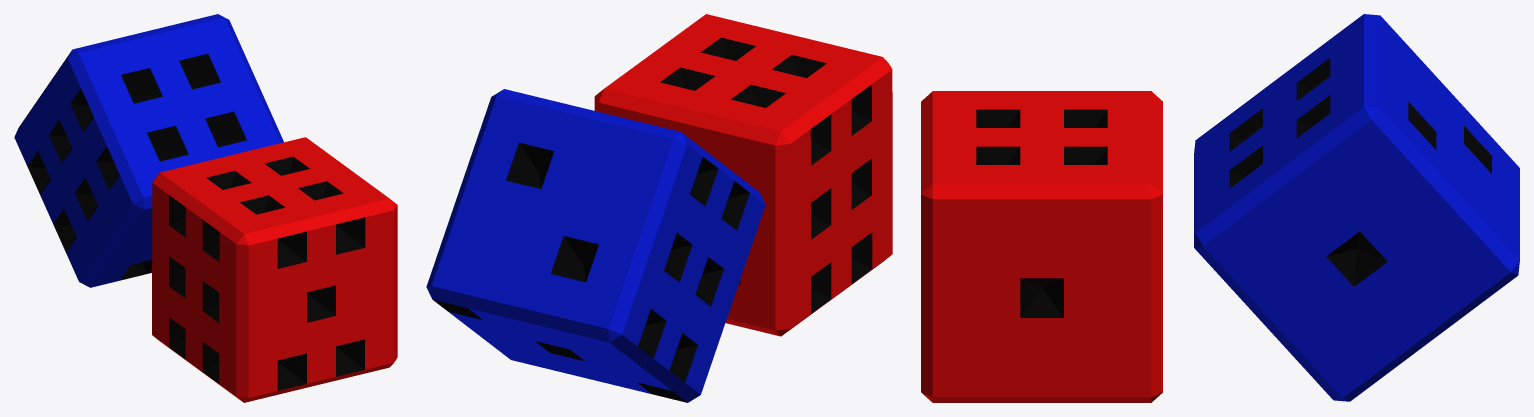
The model's file is dado.glb.
The picture shows the model from 3 angles, left to right: view 1: azimuth 30°, elevation 25°; view 2: azimuth 150°, elevation 25°; view 3: azimuth 270°, elevation 25°; orthographic projection. The views are drawn at different scales.
Parts seen in each view (by area): view 1: Cube, Cube.001; view 2: Cube.001, Cube; view 3: Cube.001, Cube.
Boxes of the visible parts, x1=… form: Cube: x1=152, y1=137, x2=397, y2=402; Cube.001: x1=14, y1=14, x2=283, y2=287; Cube.001: x1=426, y1=89, x2=765, y2=402; Cube: x1=594, y1=14, x2=892, y2=336; Cube.001: x1=1194, y1=14, x2=1519, y2=401; Cube: x1=921, y1=91, x2=1162, y2=402.
Size of what is drawn, in the model's own units: 2.01 by 2.71 by 4.95.
